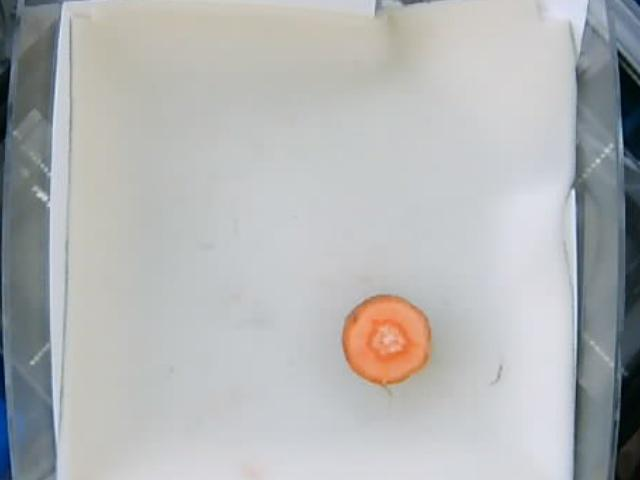Carrot: (341, 294, 435, 384)
